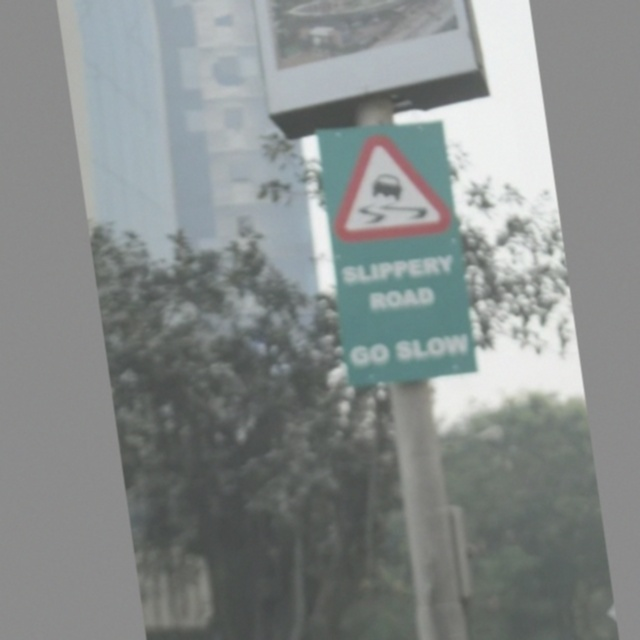Slippery_Road: (321, 128, 453, 247)
